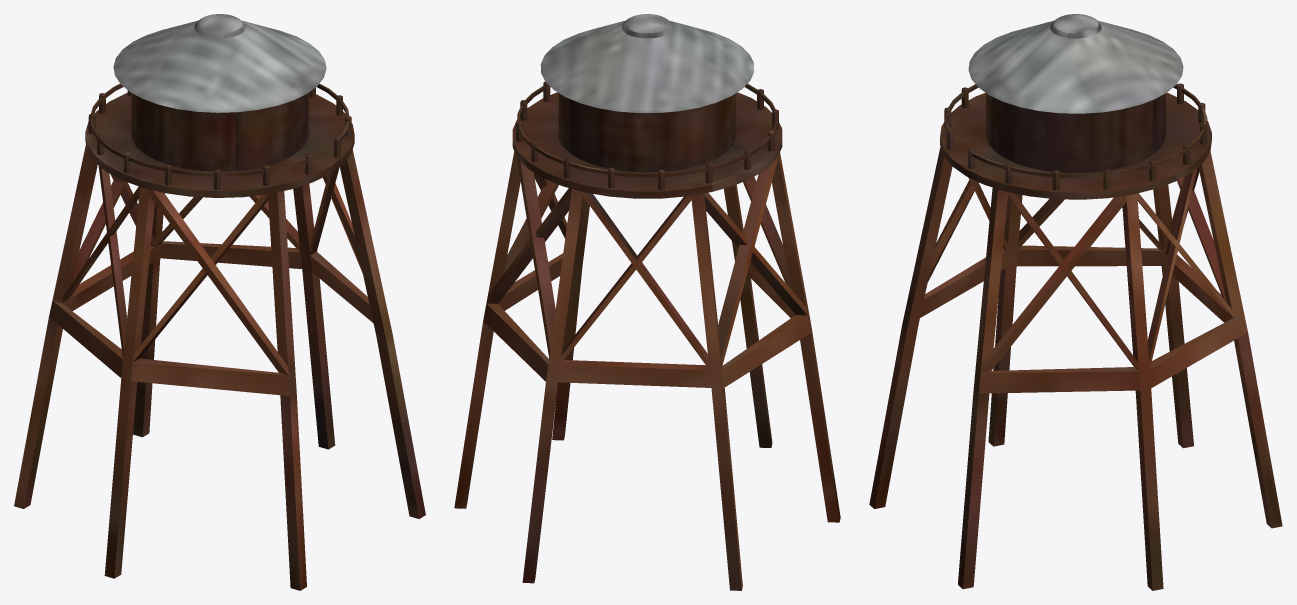
The model's file is water tower.fbx.
The picture shows the model from 3 angles, left to right: view 1: azimuth 30°, elevation 25°; view 2: azimuth 150°, elevation 25°; view 3: azimuth 270°, elevation 25°; orthographic projection.
Parts seen in each view (by area): view 1: water tower; view 2: water tower; view 3: water tower.
Boxes of the visible parts, <box> form: water tower: <box>14,14,425,590</box>; water tower: <box>454,14,840,590</box>; water tower: <box>869,14,1282,590</box>.
Bounding box in the file's own units: 1122 × 1719 × 1298.
